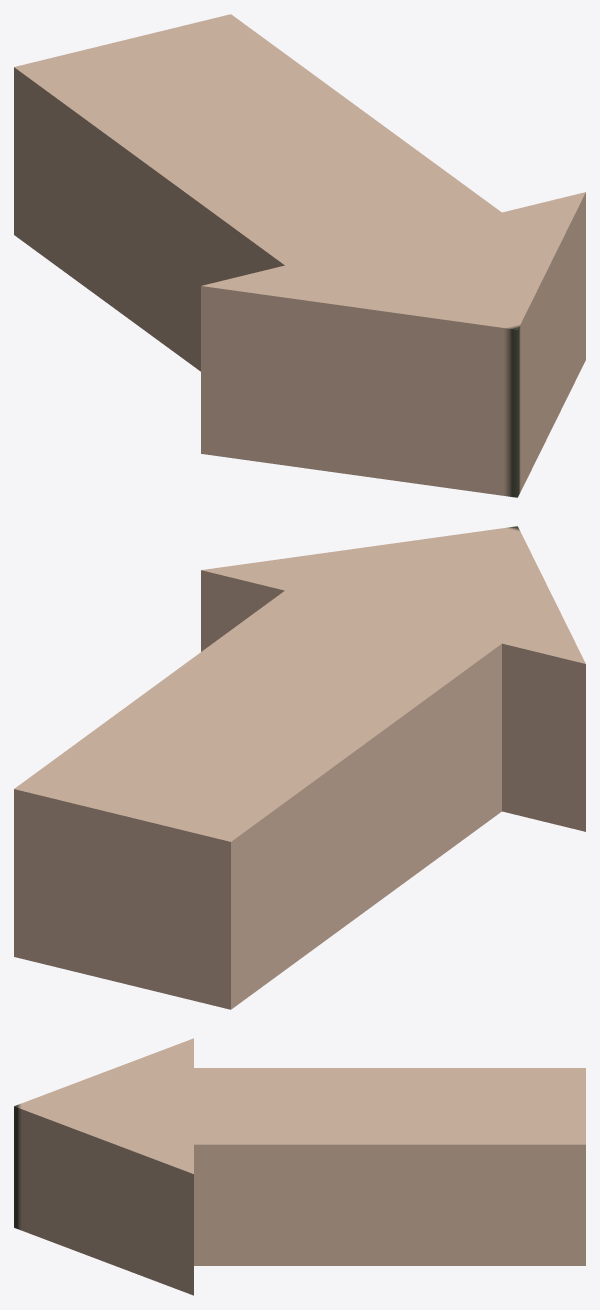
File: SM_Shape_Arrow__02.fbx
3 renders of one model, top to bottom at view 1: azimuth 30°, elevation 25°; view 2: azimuth 150°, elevation 25°; view 3: azimuth 270°, elevation 25°, orthographic. The views are drawn at different scales.
Visible parts, largest first — view 1: SM_Shape_Arrow__02; view 2: SM_Shape_Arrow__02; view 3: SM_Shape_Arrow__02.
Boxes of the visible parts, x1,y1,x2,y2 form: SM_Shape_Arrow__02: [14, 14, 585, 497]; SM_Shape_Arrow__02: [14, 526, 585, 1009]; SM_Shape_Arrow__02: [14, 1038, 585, 1295].
Bounding box in the file's own units: 5.94 × 2.47 × 10.56.
